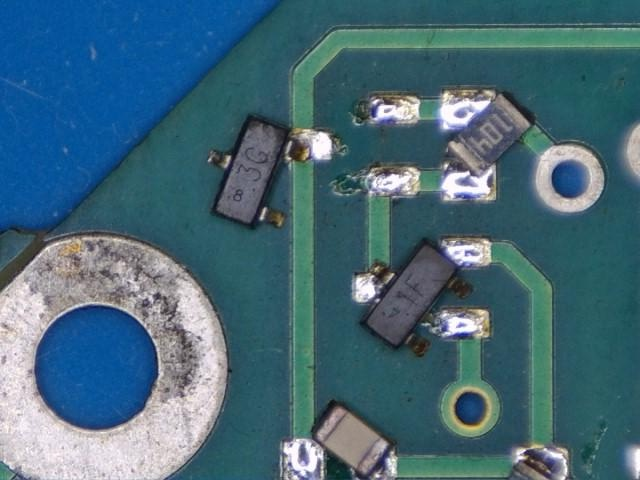pcb_defect: (355, 237, 491, 358), (206, 113, 333, 229), (441, 87, 534, 202), (281, 401, 398, 480), (507, 446, 571, 480)
